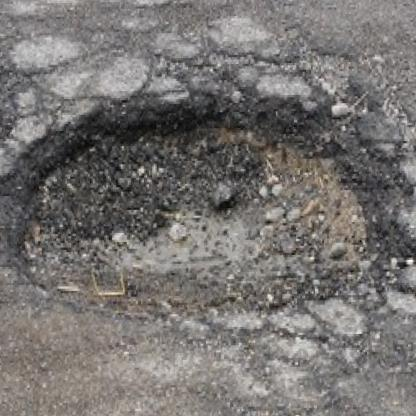pothole: (6, 84, 416, 324)
